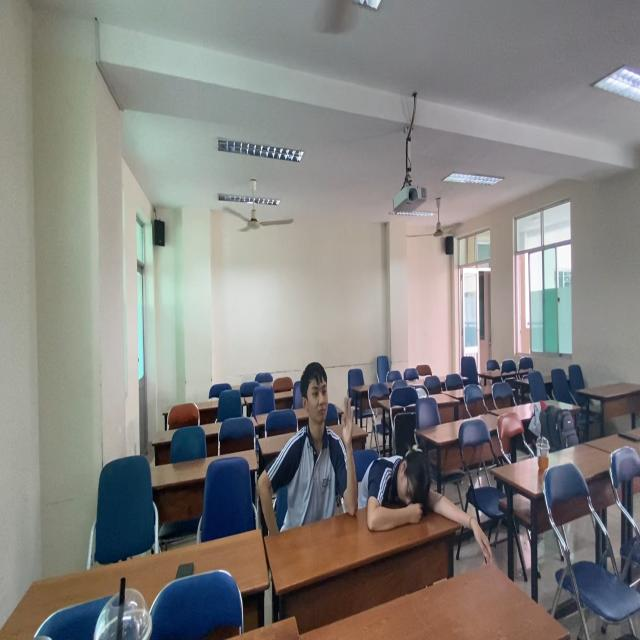raise_hand: (266, 359, 362, 521)
sleep: (363, 435, 469, 524)
